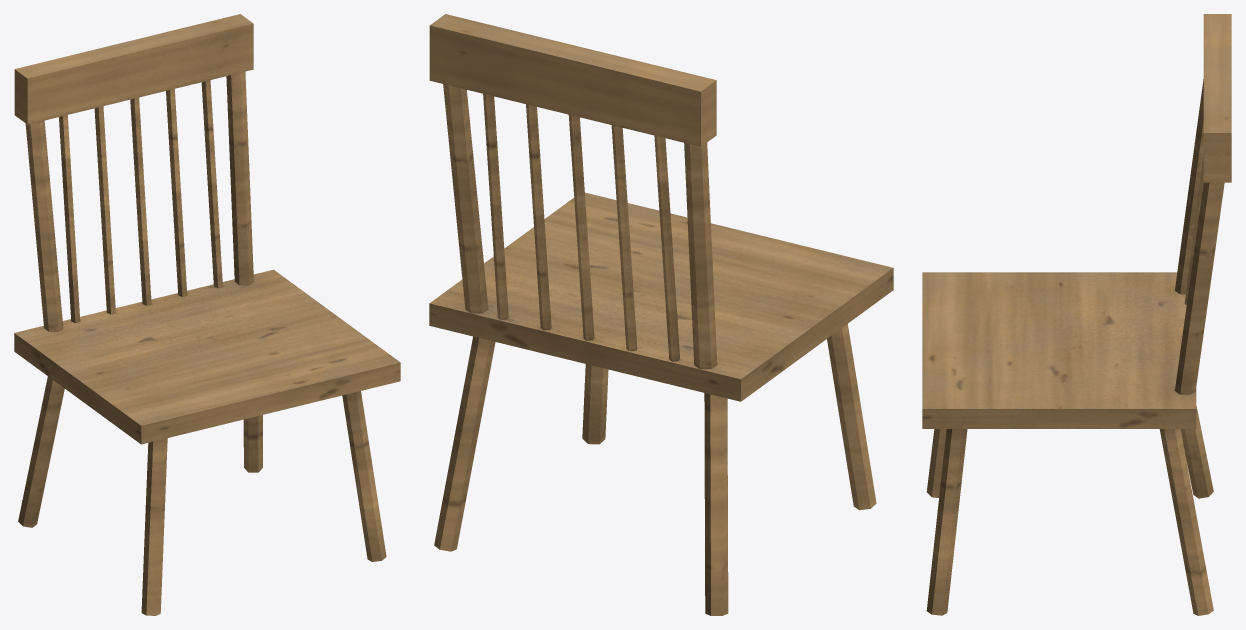
The model's file is H_DeskChair.fbx.
The picture shows the model from 3 angles, left to right: view 1: azimuth 30°, elevation 25°; view 2: azimuth 150°, elevation 25°; view 3: azimuth 270°, elevation 25°; orthographic projection. The views are drawn at different scales.
Parts seen in each view (by area): view 1: H_DeskChair; view 2: H_DeskChair; view 3: H_DeskChair.
Part boxes in pixels (x1,y1,x2,y2): H_DeskChair: [14, 14, 400, 615]; H_DeskChair: [429, 14, 893, 615]; H_DeskChair: [922, 14, 1231, 615].
Size of the model in its own units: 218 by 358 by 209.
Materials: 1 (1 with a texture image).
